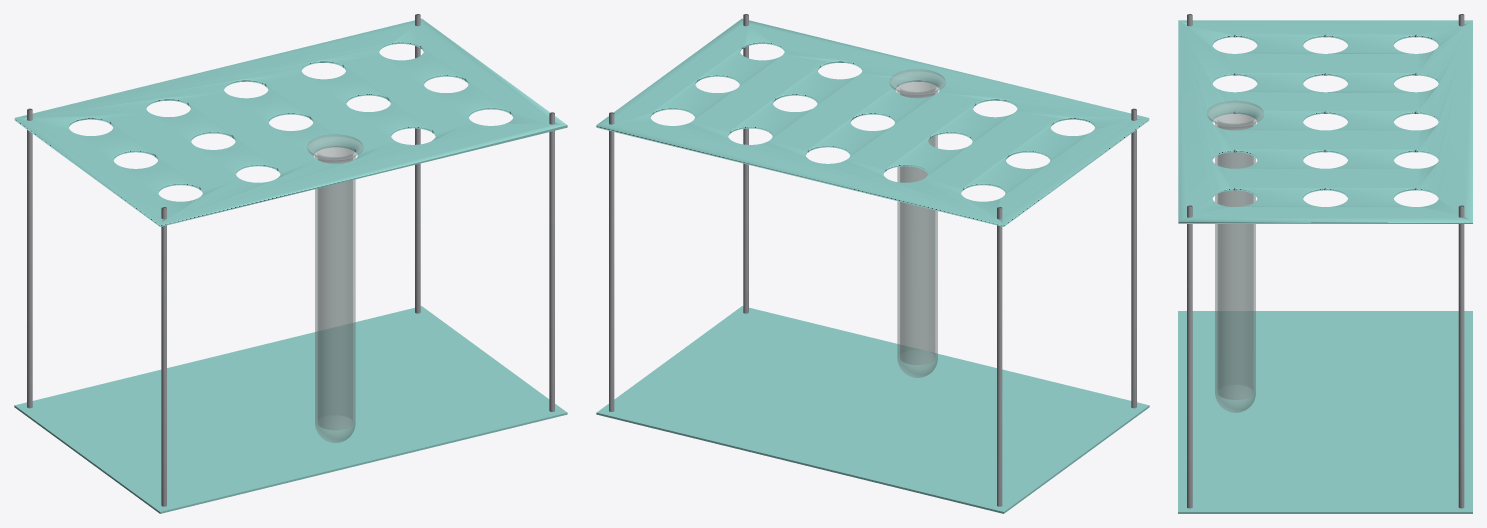
File: ReposabialBialTexturafbx.fbx
3 views of the same model, side by side, from view 1: azimuth 30°, elevation 25°; view 2: azimuth 150°, elevation 25°; view 3: azimuth 270°, elevation 25° (orthographic).
Parts seen in each view (by area): view 1: polySurface8, polySurface6; view 2: polySurface8, polySurface6; view 3: polySurface8, polySurface6.
Part boxes in pixels (x1,y1,x2,y2): polySurface8: (14,14,567,513); polySurface6: (307,134,363,442); polySurface8: (596,14,1149,513); polySurface6: (889,69,945,377); polySurface8: (1178,14,1472,513); polySurface6: (1207,100,1263,412).
Size of the model in its own units: 8.22 by 5.79 by 5.09.
Materials: 3 (1 with a texture image).
